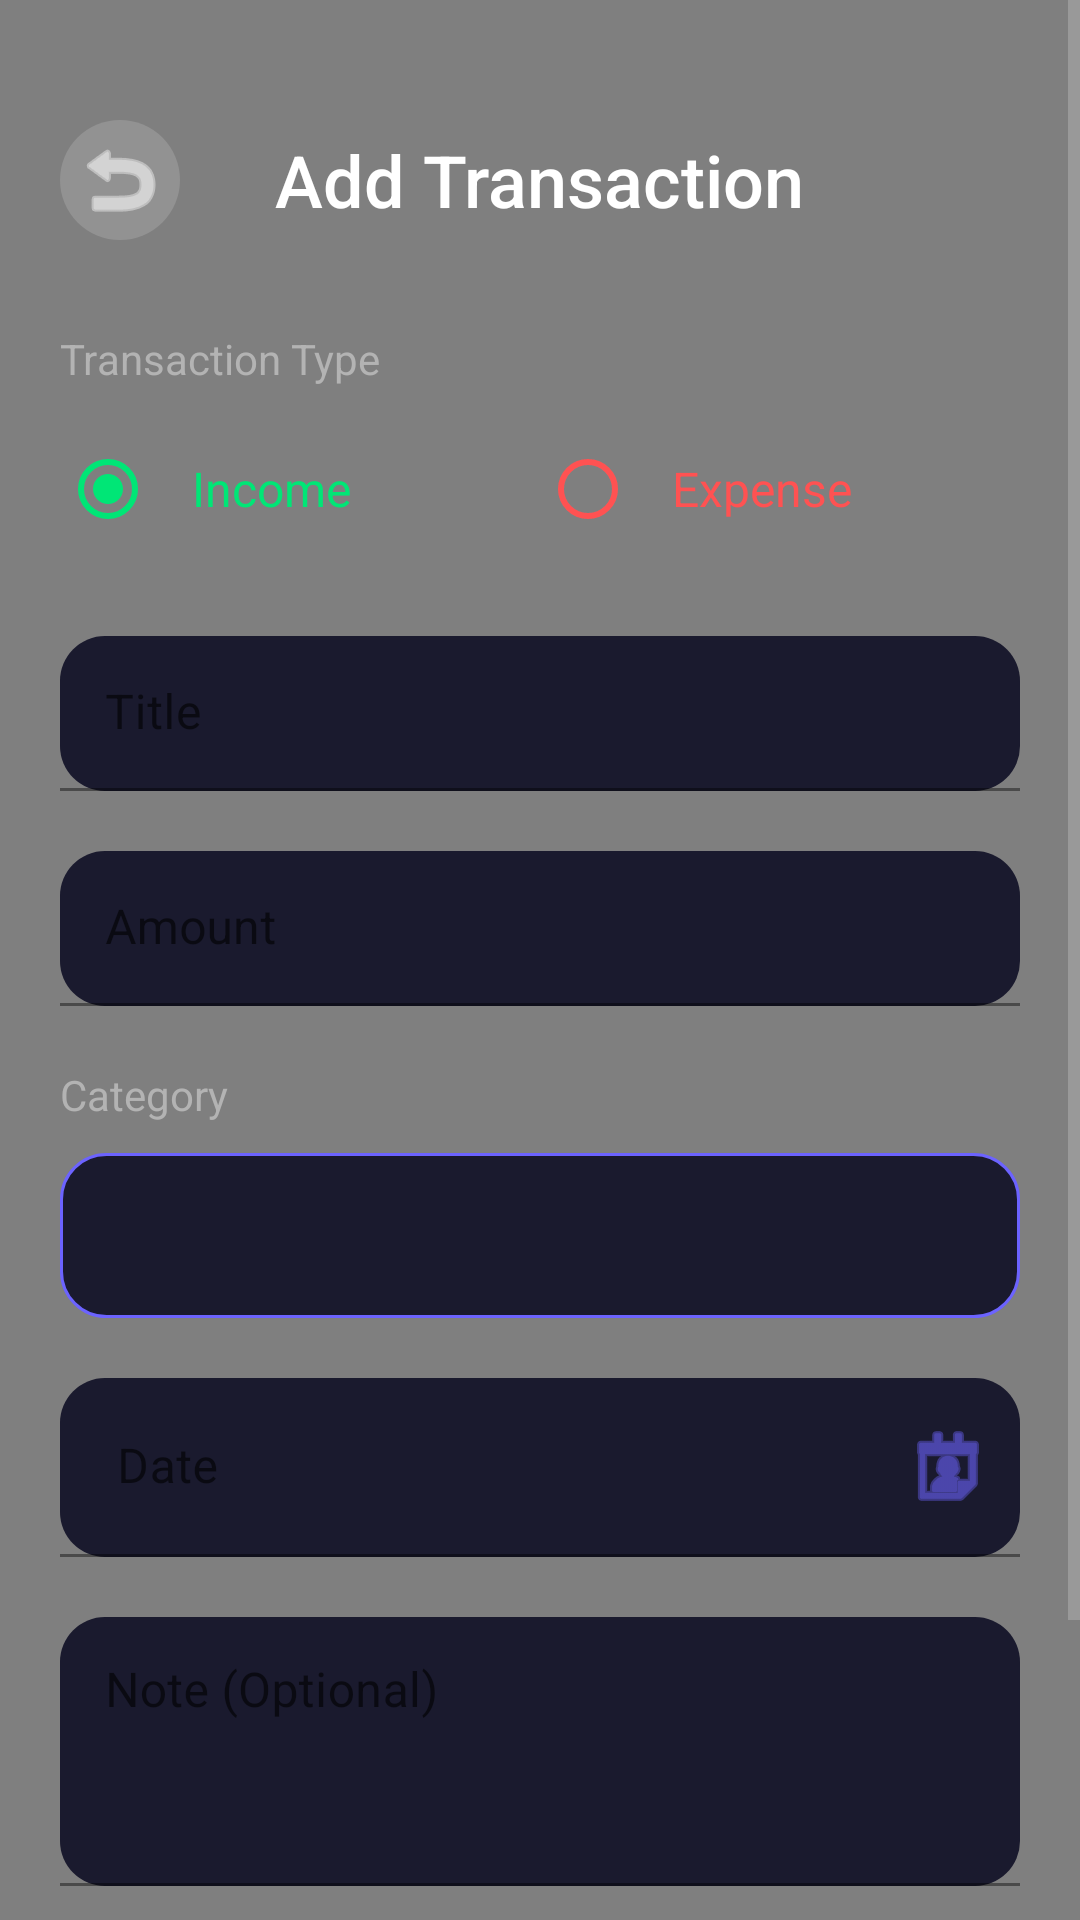

Where icons sit on this 1080px×1920px app screen, as (x1, y1, x2, y2):
revert: (86, 149, 156, 212)
